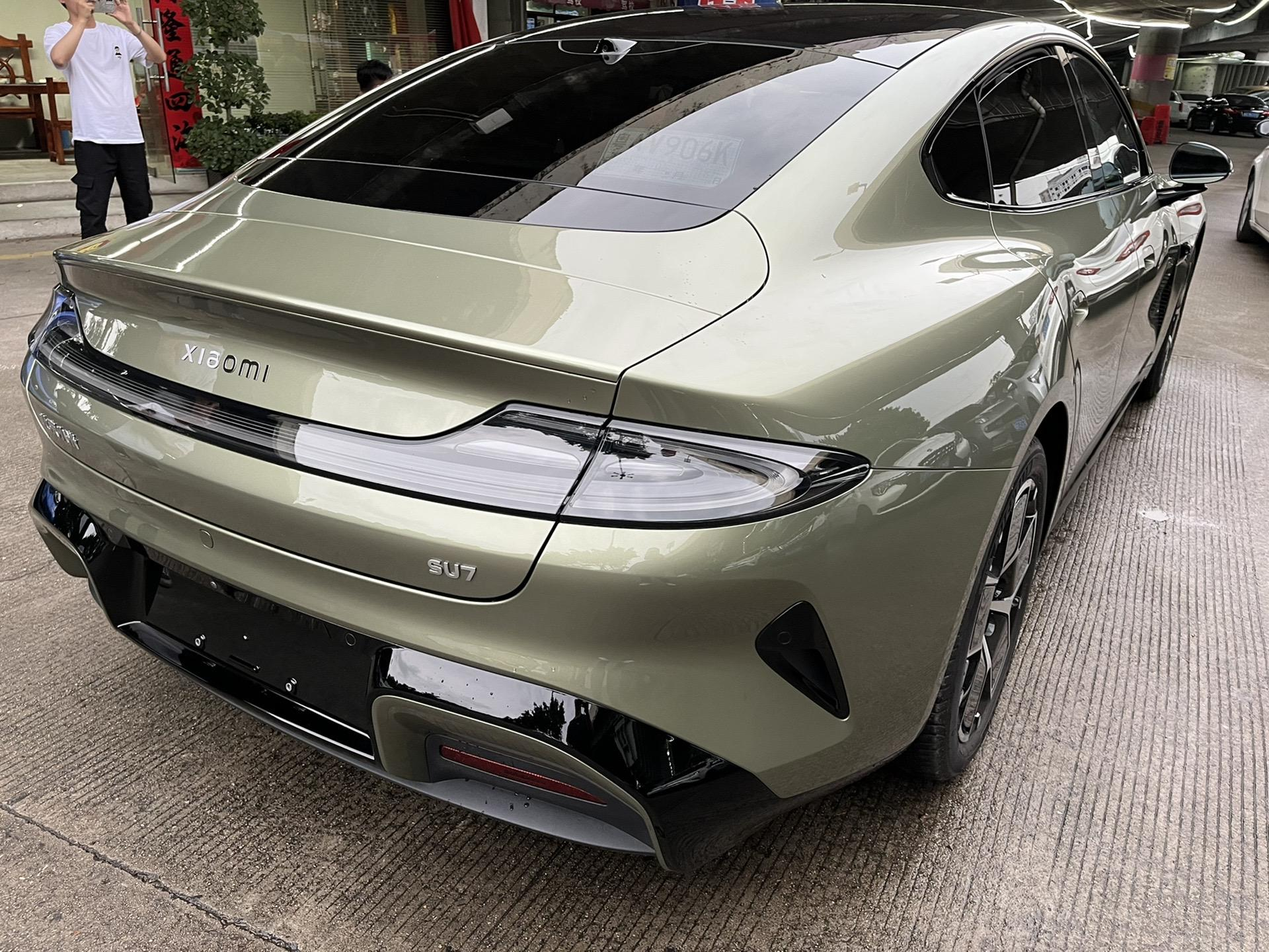su7: (34, 13, 1200, 889)
